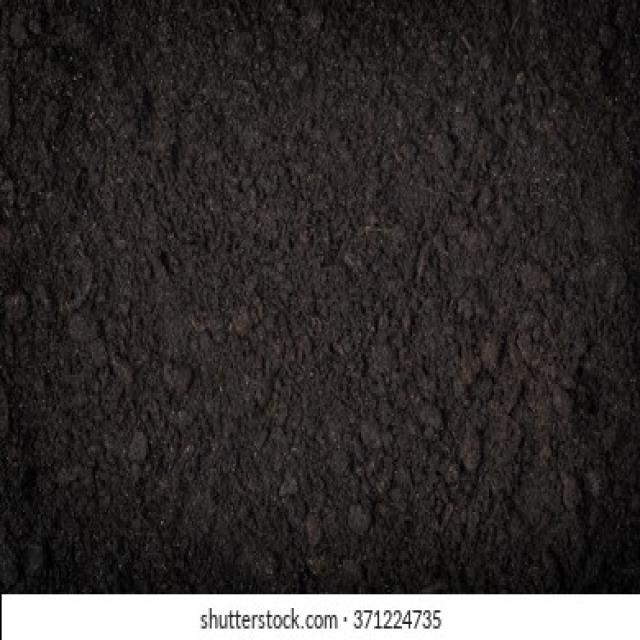Black Soil: (42, 56, 590, 522)
